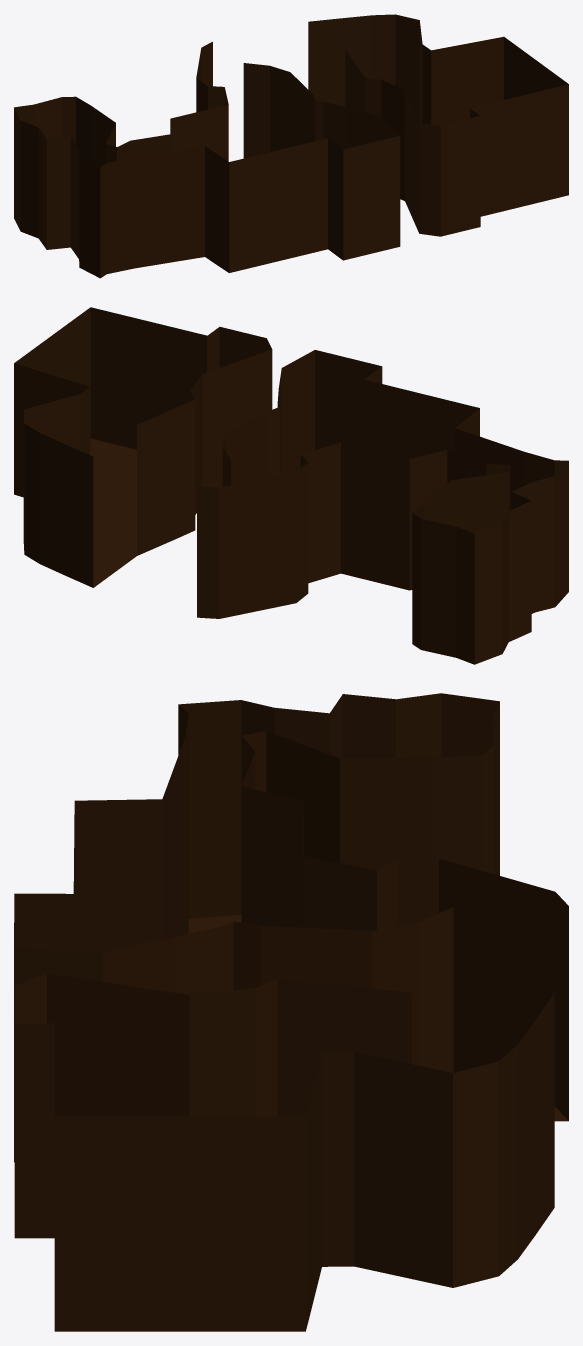
The model's file is opt_map.FBX.
3 views of the same model, one above another, from view 1: azimuth 30°, elevation 25°; view 2: azimuth 150°, elevation 25°; view 3: azimuth 270°, elevation 25° (orthographic). The views are drawn at different scales.
Visible parts, largest first — view 1: floor; view 2: floor; view 3: floor.
Boxes of the visible parts, x1=… form: floor: x1=14, y1=14, x2=568, y2=278; floor: x1=14, y1=307, x2=568, y2=664; floor: x1=14, y1=693, x2=568, y2=1331.
Size of the model in its own units: 18403 by 4356 by 10192.
